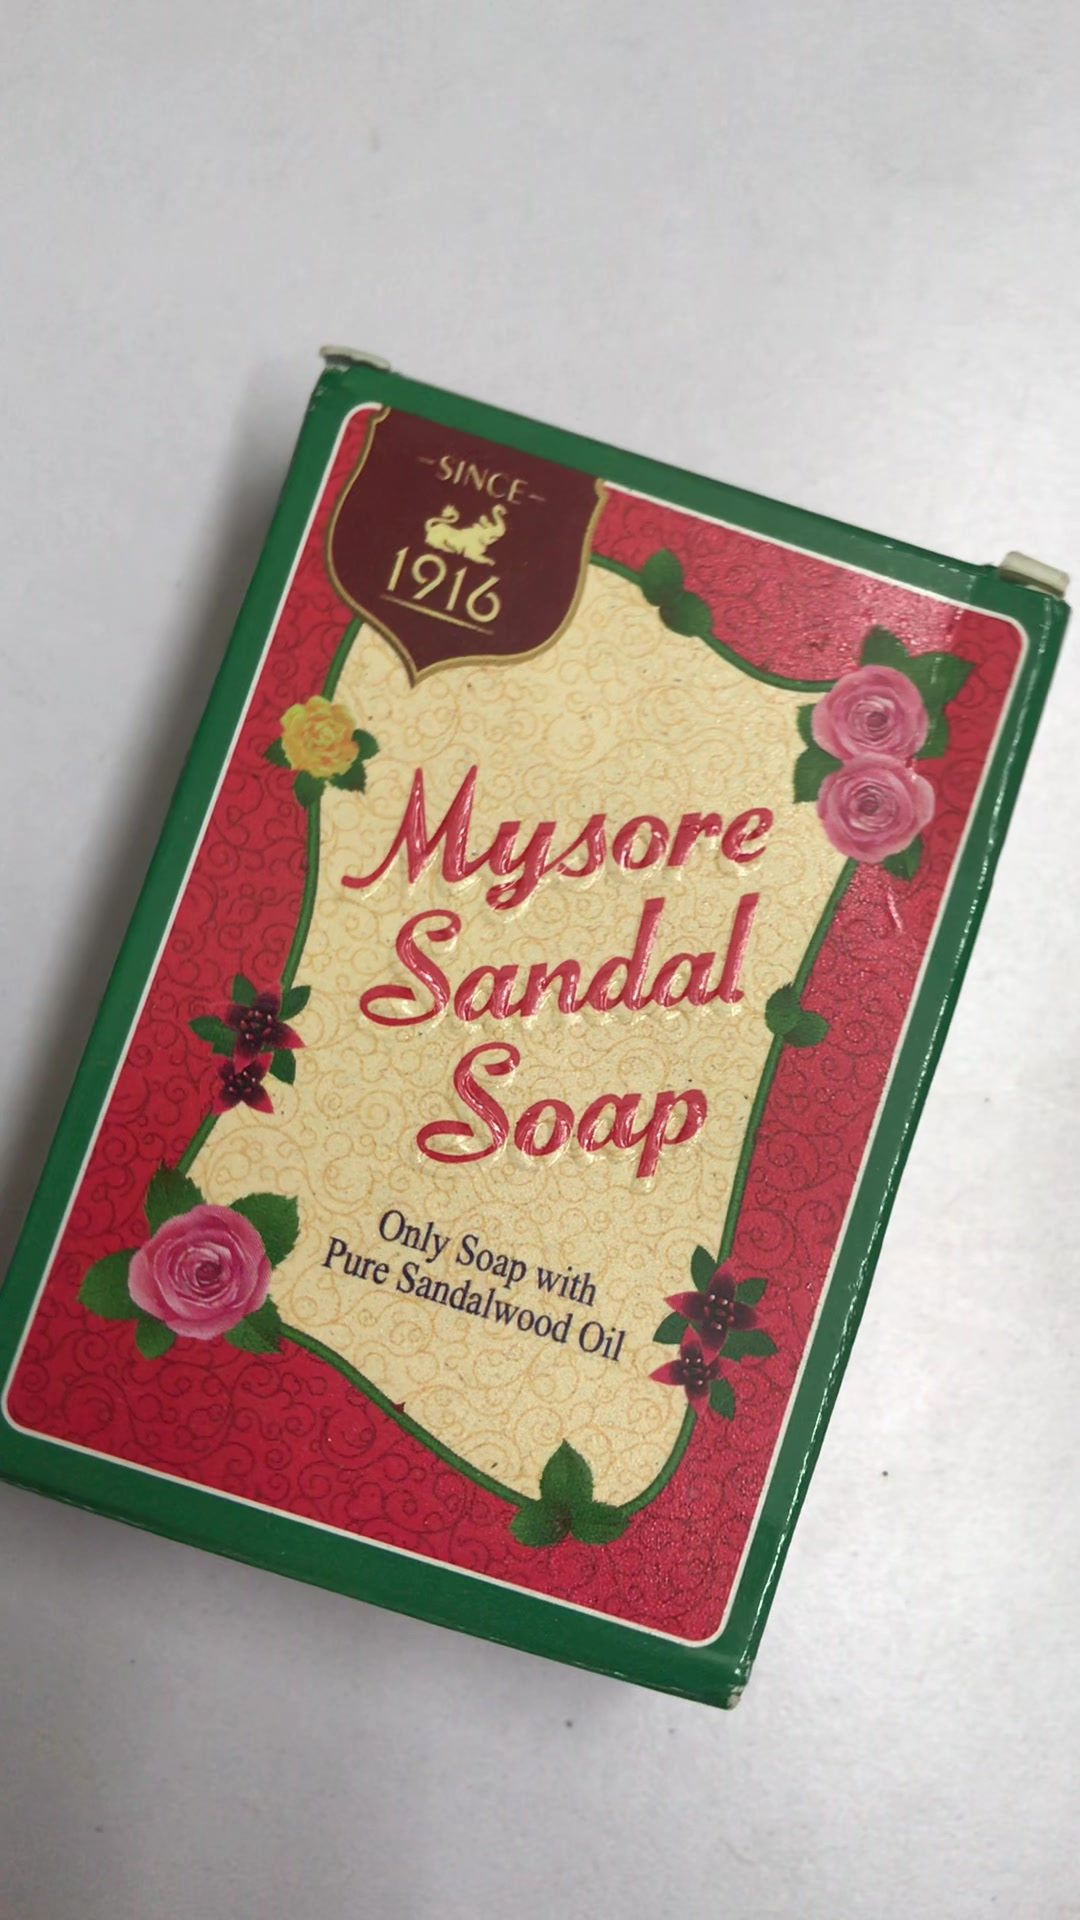mysore sandal soap: (9, 348, 1068, 1716)
